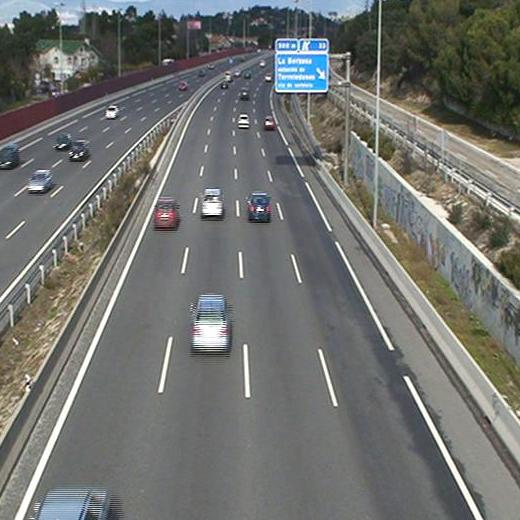car: (187, 294, 233, 351), (150, 195, 181, 229), (196, 185, 226, 218), (245, 190, 274, 223), (235, 112, 252, 132), (263, 114, 279, 130), (238, 85, 251, 100)
